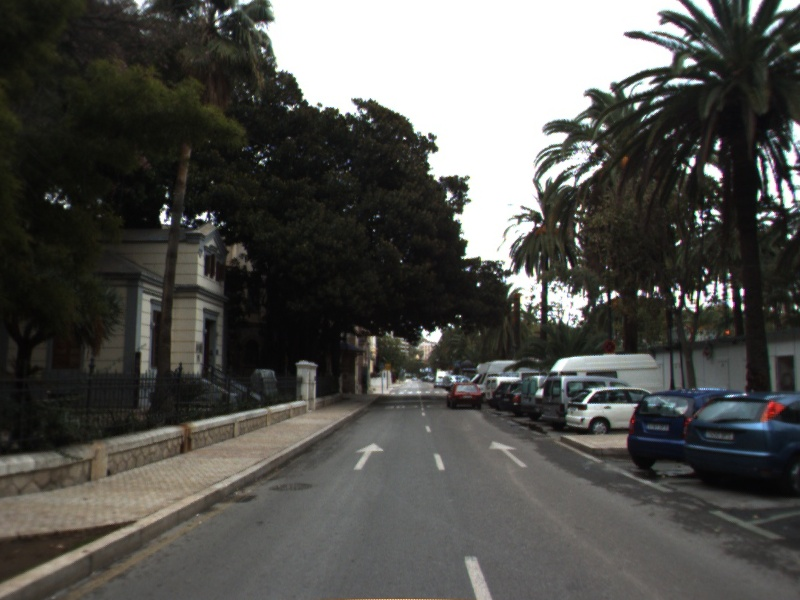STRAIGHT: (487, 439, 530, 469), (352, 441, 385, 472)
